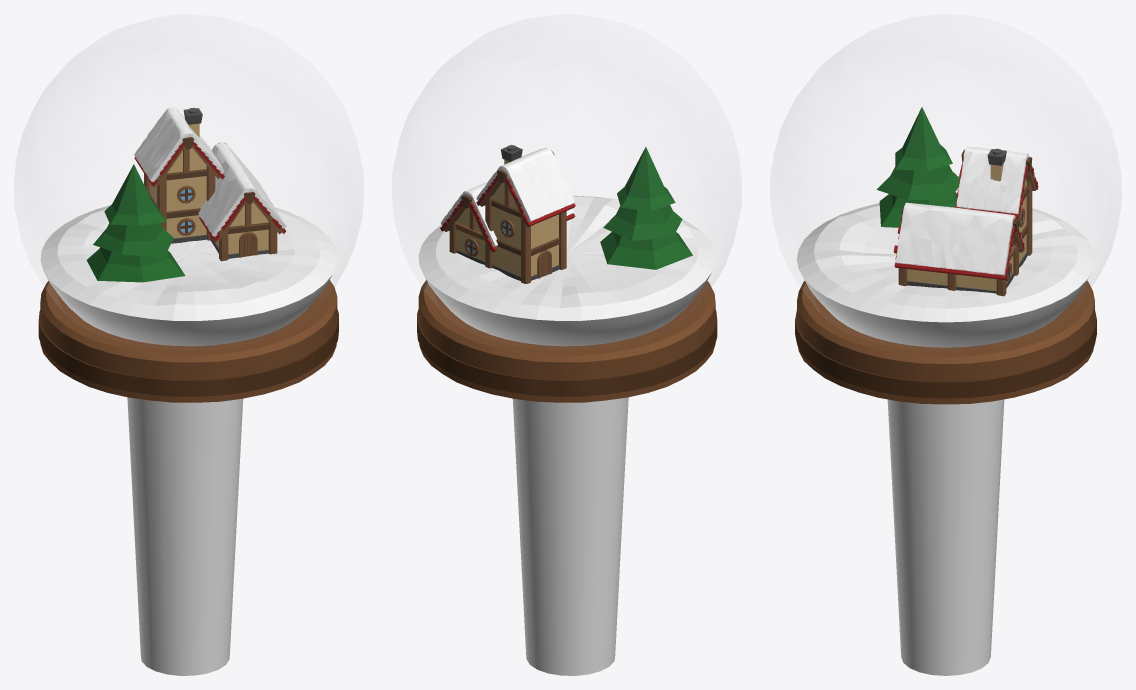
The model's file is Snow Globe Knob.fbx.
3 views of the same model, side by side, from view 1: azimuth 30°, elevation 25°; view 2: azimuth 150°, elevation 25°; view 3: azimuth 270°, elevation 25° (orthographic).
Visible parts, largest first — view 1: Snow_Globe, Snow_Globe_Gear; view 2: Snow_Globe, Snow_Globe_Gear; view 3: Snow_Globe, Snow_Globe_Gear.
Boxes of the visible parts, left/top/right/bottom form: Snow_Globe: left=23, top=20, right=338, bottom=402; Snow_Globe_Gear: left=127, top=397, right=243, bottom=675; Snow_Globe: left=401, top=34, right=717, bottom=402; Snow_Globe_Gear: left=512, top=397, right=628, bottom=675; Snow_Globe: left=795, top=20, right=1096, bottom=404; Snow_Globe_Gear: left=887, top=399, right=1004, bottom=675.
Size of the model in its own units: 35.4 by 69.8 by 35.4.
